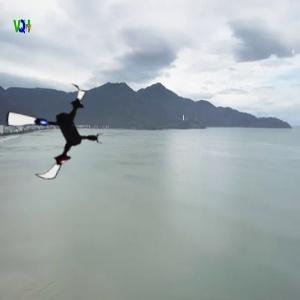drone: (3, 80, 107, 184)
